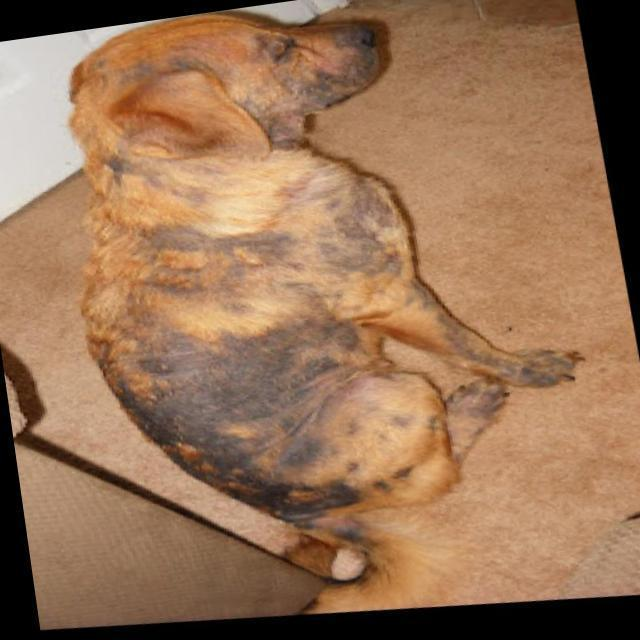mange: (72, 160, 421, 509)
